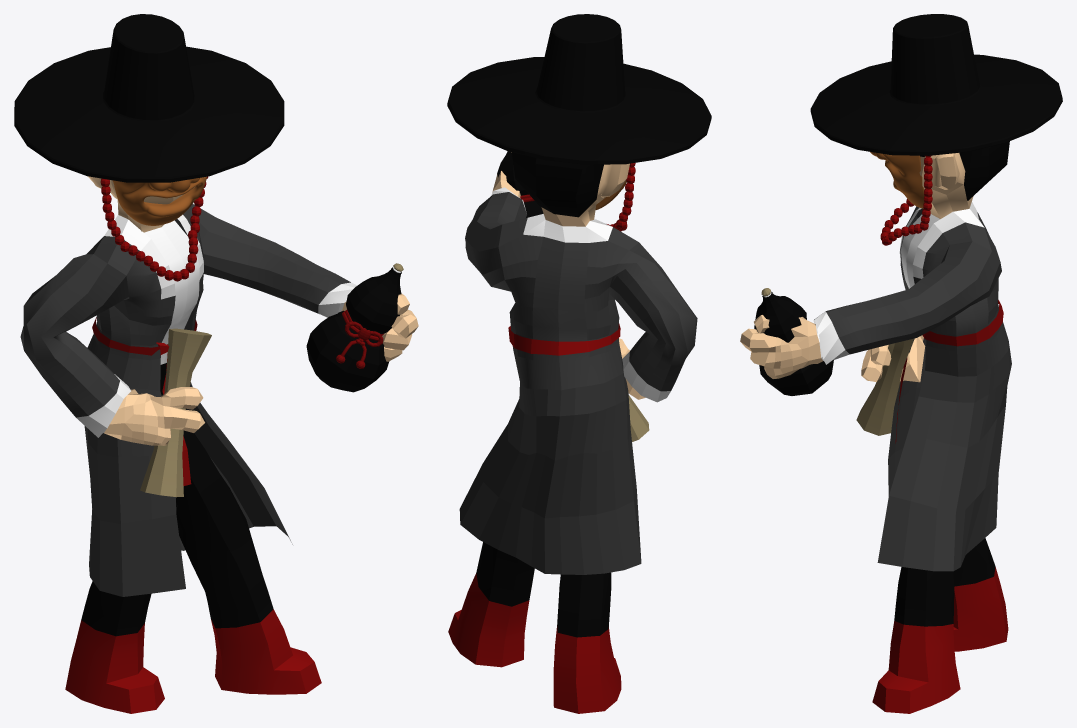
Rendered from MainCharacter_220905 (2).fbx.
3 renders of one model, left to right at view 1: azimuth 30°, elevation 25°; view 2: azimuth 150°, elevation 25°; view 3: azimuth 270°, elevation 25°, orthographic. The views are drawn at different scales.
Visible parts, largest first — view 1: PolySphere, pTorus6, pCylinder1, pSphere44; view 2: PolySphere, pTorus6, pSphere44, pCylinder1; view 3: PolySphere, pTorus6, pCylinder1, pSphere44.
Boxes of the visible parts, x1=… form: PolySphere: x1=14, y1=14, x2=418, y2=713; pTorus6: x1=306, y1=263, x2=403, y2=392; pCylinder1: x1=140, y1=328, x2=211, y2=497; pSphere44: x1=100, y1=176, x2=208, y2=281; PolySphere: x1=447, y1=14, x2=711, y2=713; pTorus6: x1=497, y1=151, x2=543, y2=217; pSphere44: x1=607, y1=163, x2=635, y2=231; pCylinder1: x1=628, y1=395, x2=649, y2=441; PolySphere: x1=740, y1=14, x2=1062, y2=713; pTorus6: x1=754, y1=288, x2=833, y2=395; pCylinder1: x1=856, y1=338, x2=913, y2=435; pSphere44: x1=880, y1=155, x2=932, y2=245.
Bounding box in the file's own units: 7.9 × 17.31 × 8.11.
